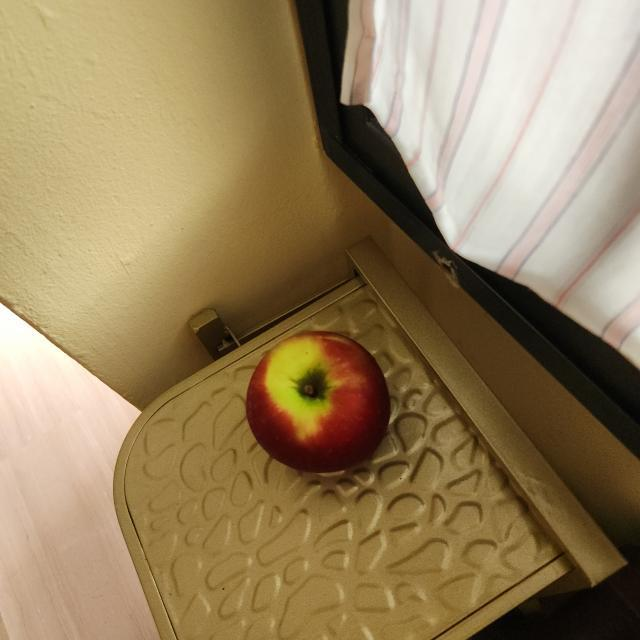apple: (240, 326, 404, 484)
